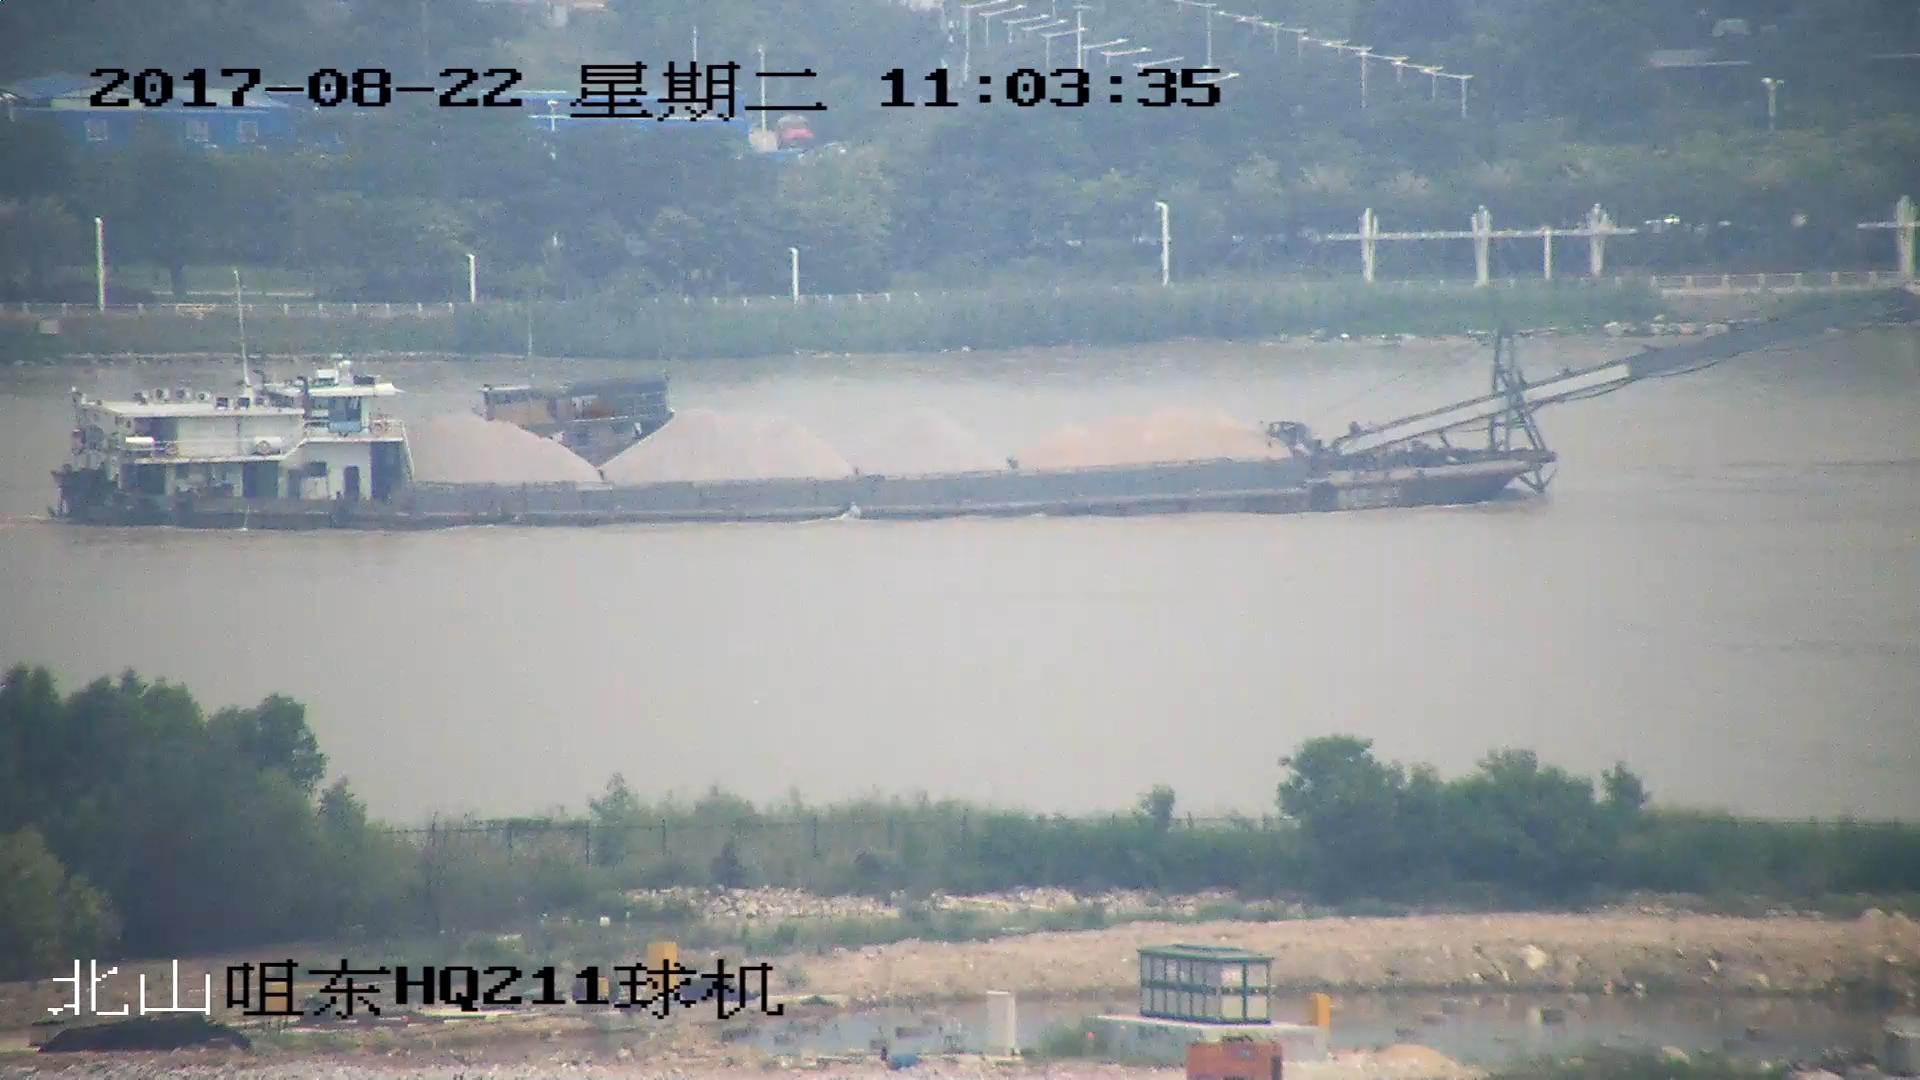fishing boat: (482, 384, 685, 452)
ore carrier: (50, 291, 1912, 531)
